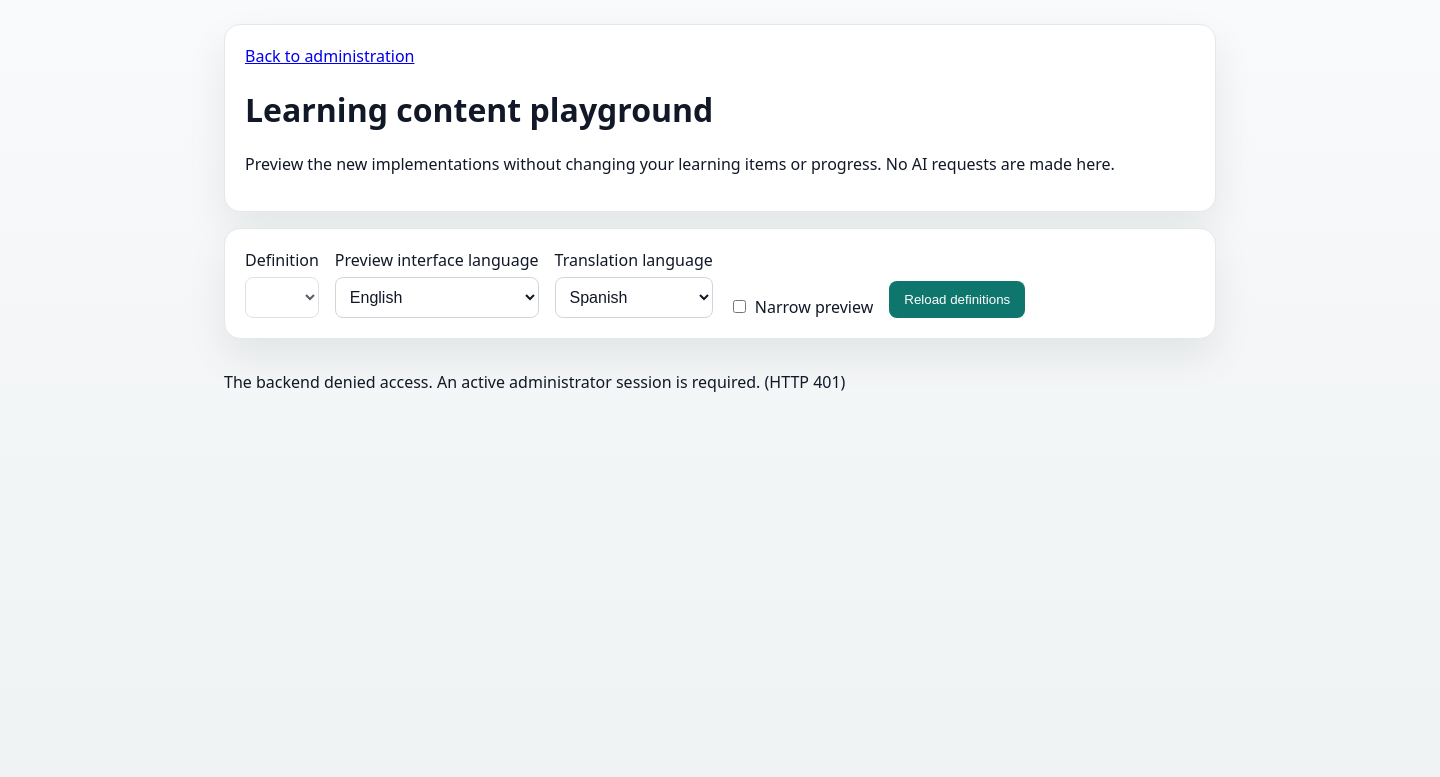
shows request errors (401) and can retry
Expected: the message shows "The backend denied access", left=224, top=371, right=760, bottom=393
Click the button "Reload definitions" at [957, 299], box left=889, top=281, right=1025, bottom=318
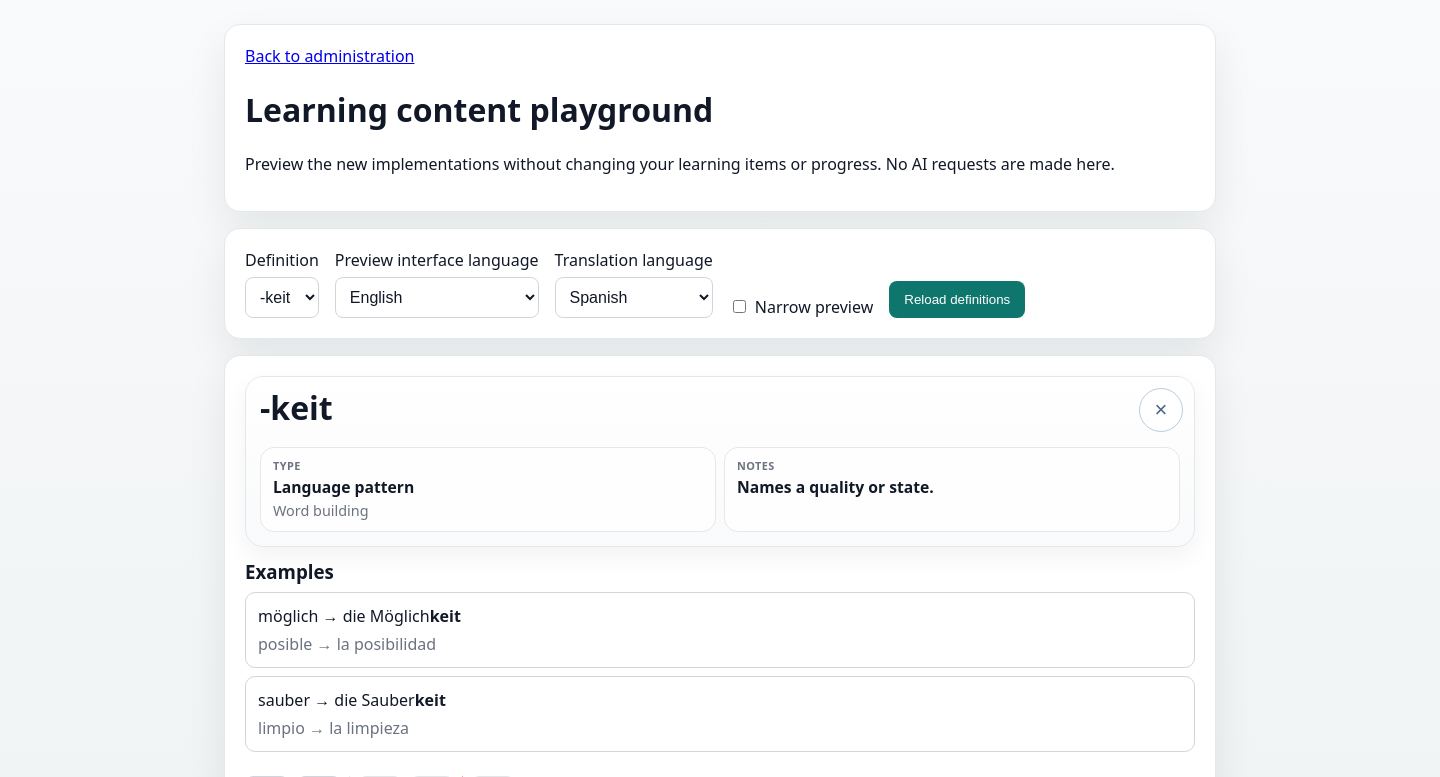
Expected: the heading "-keit" is shown, left=260, top=391, right=333, bottom=424
Expected: the message is gone
